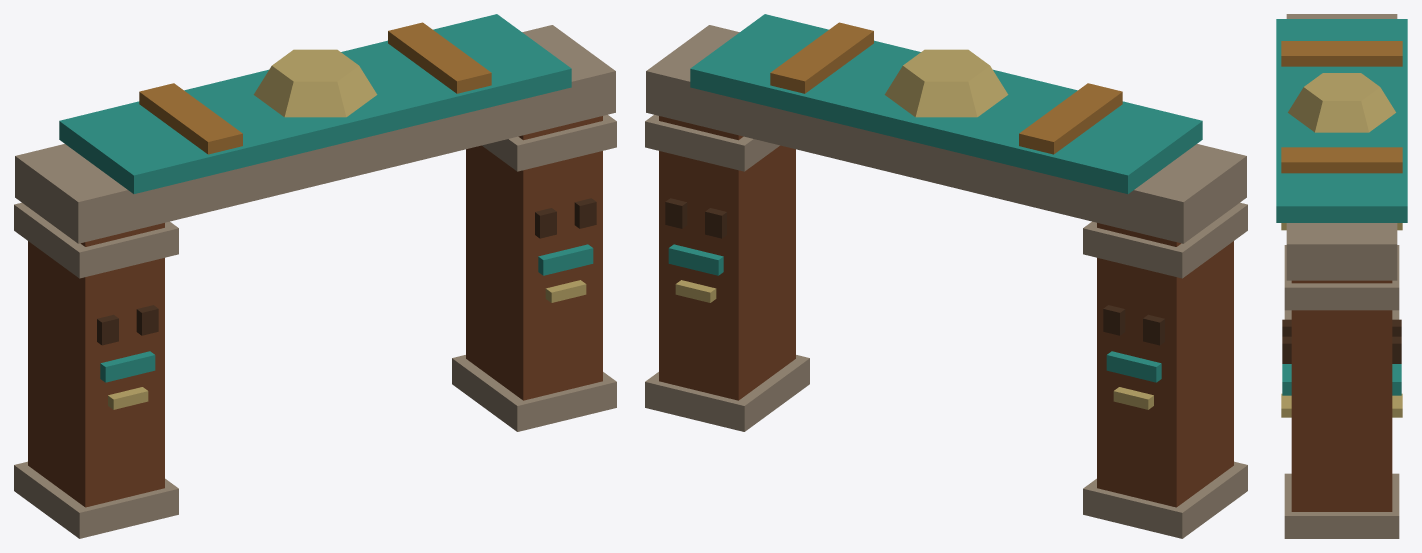
File: Tropical_TikiGate_Showcase.glb
3 renders of one model, left to right at view 1: azimuth 30°, elevation 25°; view 2: azimuth 150°, elevation 25°; view 3: azimuth 270°, elevation 25°, orthographic. The views are drawn at different scales.
Visible parts, largest first — view 1: Tropical_TikiGate_Showcase; view 2: Tropical_TikiGate_Showcase; view 3: Tropical_TikiGate_Showcase.
Boxes of the visible parts, x1,y1,x2,y2 form: Tropical_TikiGate_Showcase: [14, 14, 616, 538]; Tropical_TikiGate_Showcase: [645, 14, 1247, 538]; Tropical_TikiGate_Showcase: [1276, 14, 1407, 538].
Size of the model in its own units: 5.4 by 3.71 by 1.3.
